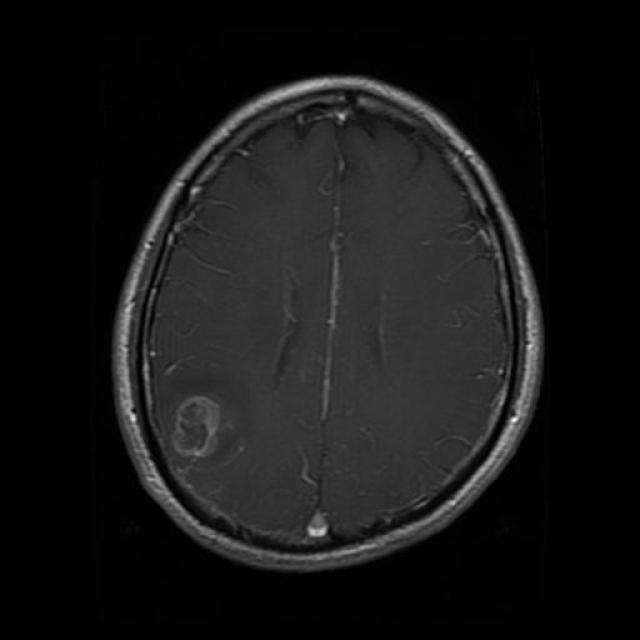glioma: (166, 389, 236, 461)
